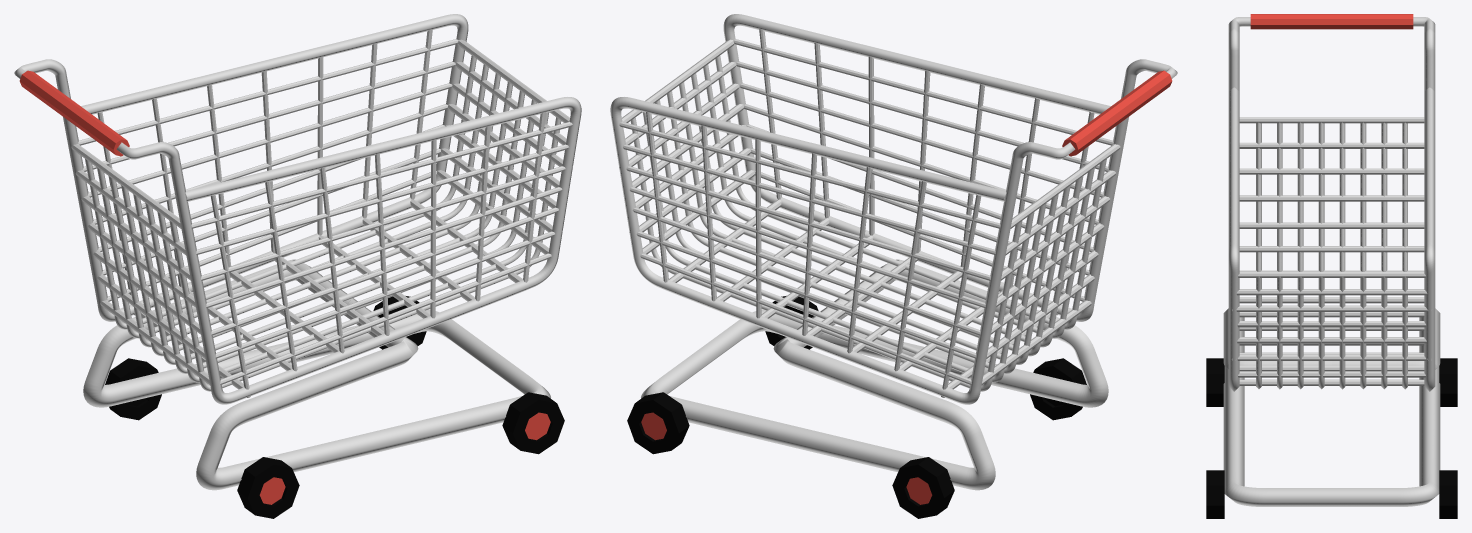
File: ShoppingCart.fbx
The picture shows the model from 3 angles, left to right: view 1: azimuth 30°, elevation 25°; view 2: azimuth 150°, elevation 25°; view 3: azimuth 270°, elevation 25°; orthographic projection. The views are drawn at different scales.
Parts seen in each view (by area): view 1: Cylinder.028; view 2: Cylinder.028; view 3: Cylinder.028.
Part boxes in pixels (x1=…): Cylinder.028: x1=14, y1=14, x2=581, y2=518; Cylinder.028: x1=610, y1=14, x2=1177, y2=518; Cylinder.028: x1=1206, y1=14, x2=1457, y2=518.
Bounding box in the file's own units: 131 × 107 × 71.98.
